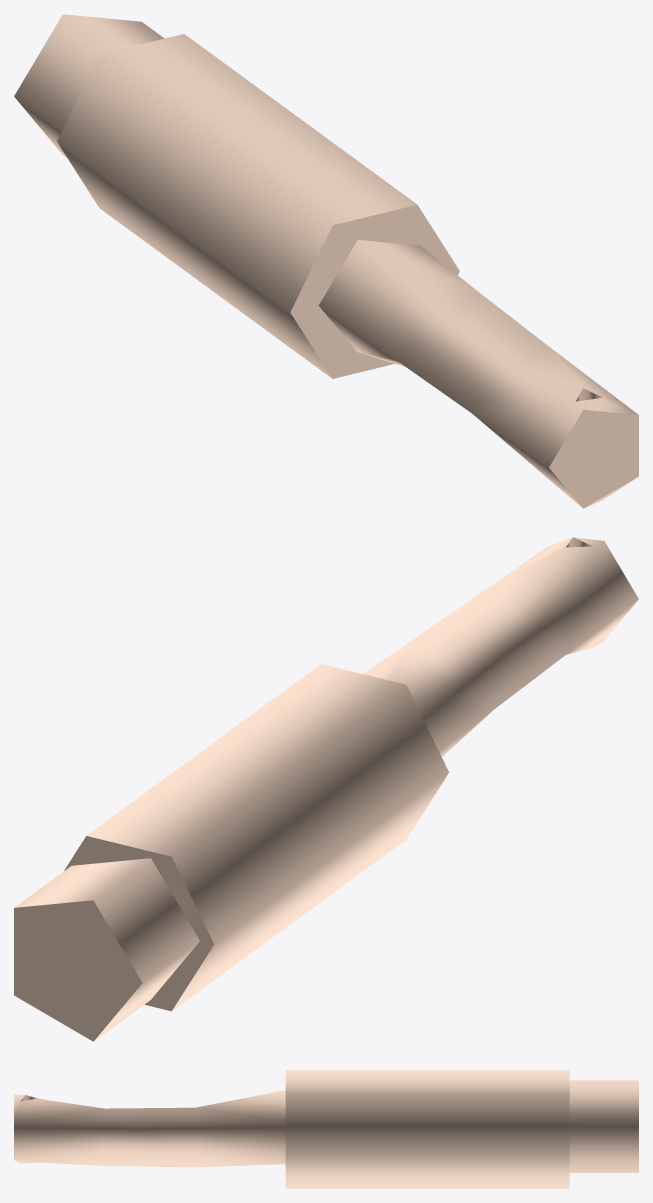
Rendered from Pont cliquet anti-retour - axe.obj.
3 renders of one model, top to bottom at view 1: azimuth 30°, elevation 25°; view 2: azimuth 150°, elevation 25°; view 3: azimuth 270°, elevation 25°, orthographic. The views are drawn at different scales.
Parts seen in each view (by area): view 1: Face_5, Face_3, Face_4, Face_7, Face_2; view 2: Face_5, Face_3, Face_1, Face_7, Face_6; view 3: Face_5, Face_3, Face_7.
Part boxes in pixels (x1,y1,x2,y2): Face_5: (57,34,416,378); Face_3: (318,240,638,507); Face_4: (290,204,459,378); Face_7: (14,14,164,157); Face_2: (549,409,638,508); Face_5: (86,664,448,1010); Face_3: (363,537,638,756); Face_1: (14,900,142,1041); Face_7: (14,858,199,1040); Face_6: (64,836,214,1011); Face_5: (285,1070,569,1188); Face_3: (14,1090,285,1167); Face_7: (569,1080,638,1172).
Size of the model in its own units: 0.006 by 0.0052 by 0.0315.
